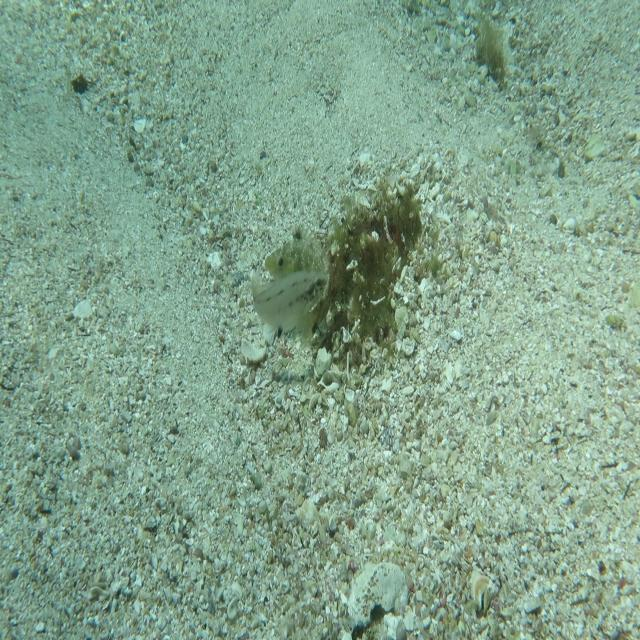DAN_CIRC: (264, 221, 334, 348)
female: (251, 266, 331, 342)
nest: (306, 162, 431, 368)
